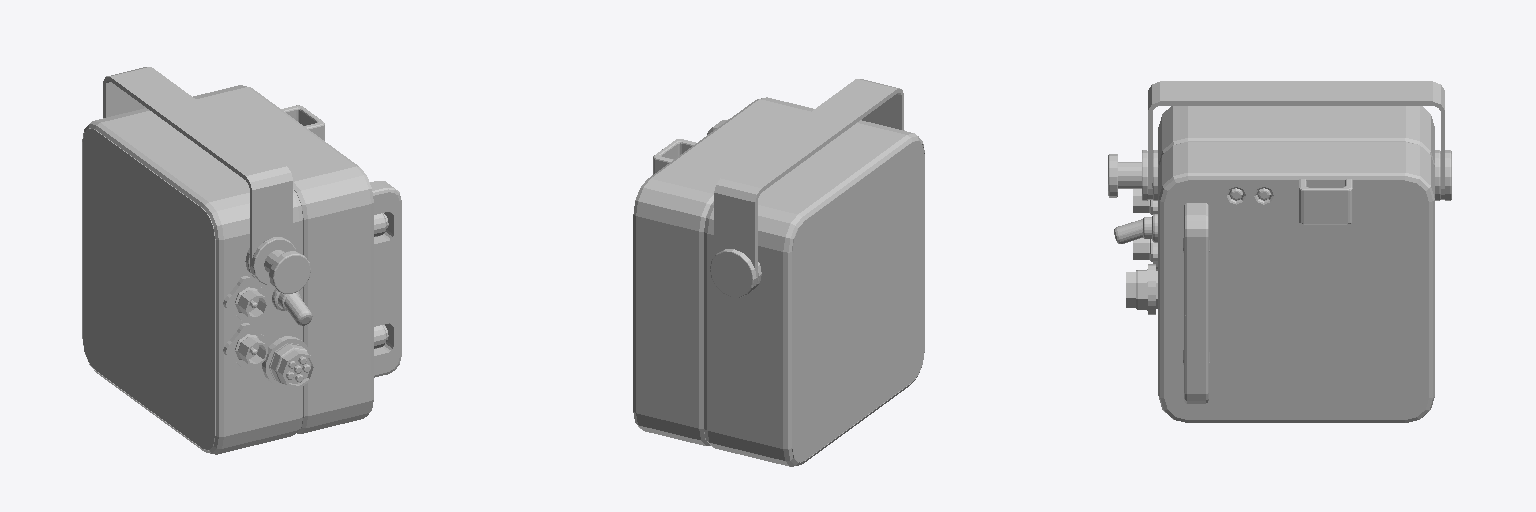
The picture shows the model from 3 angles: view 1: azimuth 30°, elevation 25°; view 2: azimuth 150°, elevation 25°; view 3: azimuth 270°, elevation 25°; orthographic projection.
Parts seen in each view (by area): view 1: Speaker.001_Cube.011; view 2: Speaker.001_Cube.011; view 3: Speaker.001_Cube.011.
Part boxes in pixels (x1,y1,x2,y2): Speaker.001_Cube.011: (82, 67, 401, 454); Speaker.001_Cube.011: (633, 79, 924, 466); Speaker.001_Cube.011: (1108, 81, 1451, 422).
Bounding box in the file's own units: 4.08 × 5.55 × 6.13.